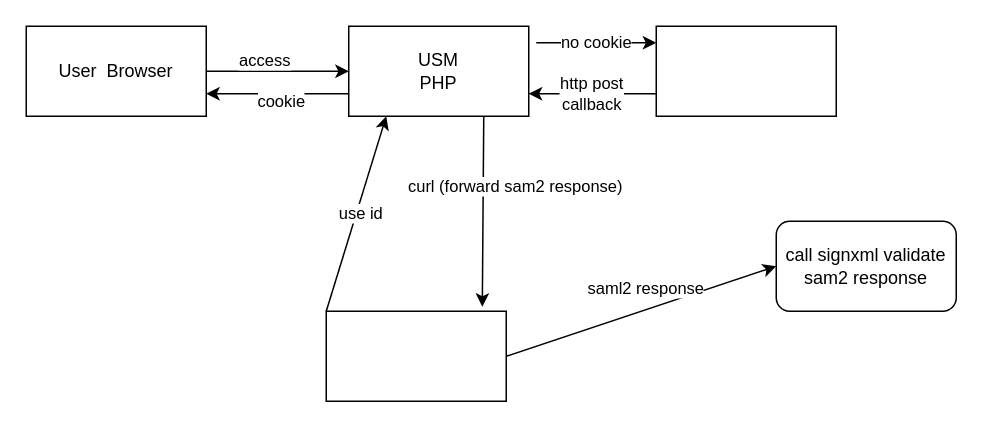
Some shapes in this 983 by 428 pixel diagram are drawn without their labels. The shapes that lost their labels are listed below. From the top down, each one's centre as x and y in pixels, then its label:
point 745,70: saml2 server
point 415,355: Python3 Cerberus Server
